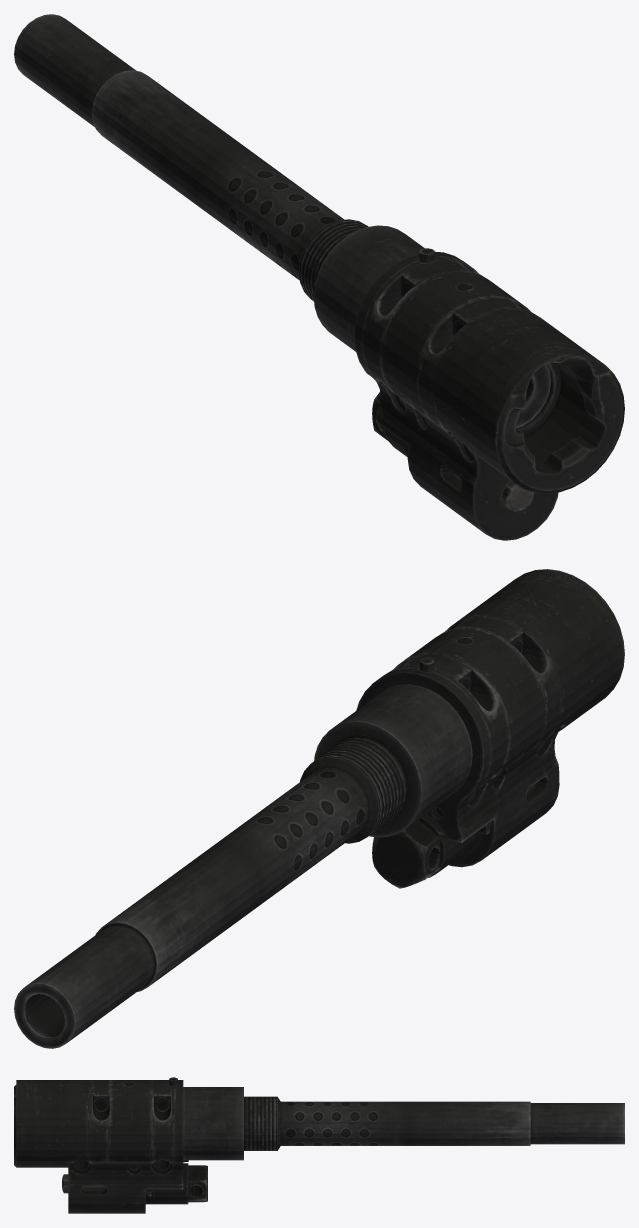
3 renders of one model, top to bottom at view 1: azimuth 30°, elevation 25°; view 2: azimuth 150°, elevation 25°; view 3: azimuth 270°, elevation 25°, orthographic. The views are drawn at different scales.
Visible parts, largest first — view 1: TW_676149a3e2cf1419500357eb_PZ_Import; view 2: TW_676149a3e2cf1419500357eb_PZ_Import; view 3: TW_676149a3e2cf1419500357eb_PZ_Import.
Part boxes in pixels (bbox=[...]): TW_676149a3e2cf1419500357eb_PZ_Import: bbox=[14, 14, 624, 540]; TW_676149a3e2cf1419500357eb_PZ_Import: bbox=[14, 569, 624, 1048]; TW_676149a3e2cf1419500357eb_PZ_Import: bbox=[14, 1077, 624, 1213].
Size of the model in its own units: 0.016 by 0.1108 by 0.0263.
Materials: 1 (1 with a texture image).
